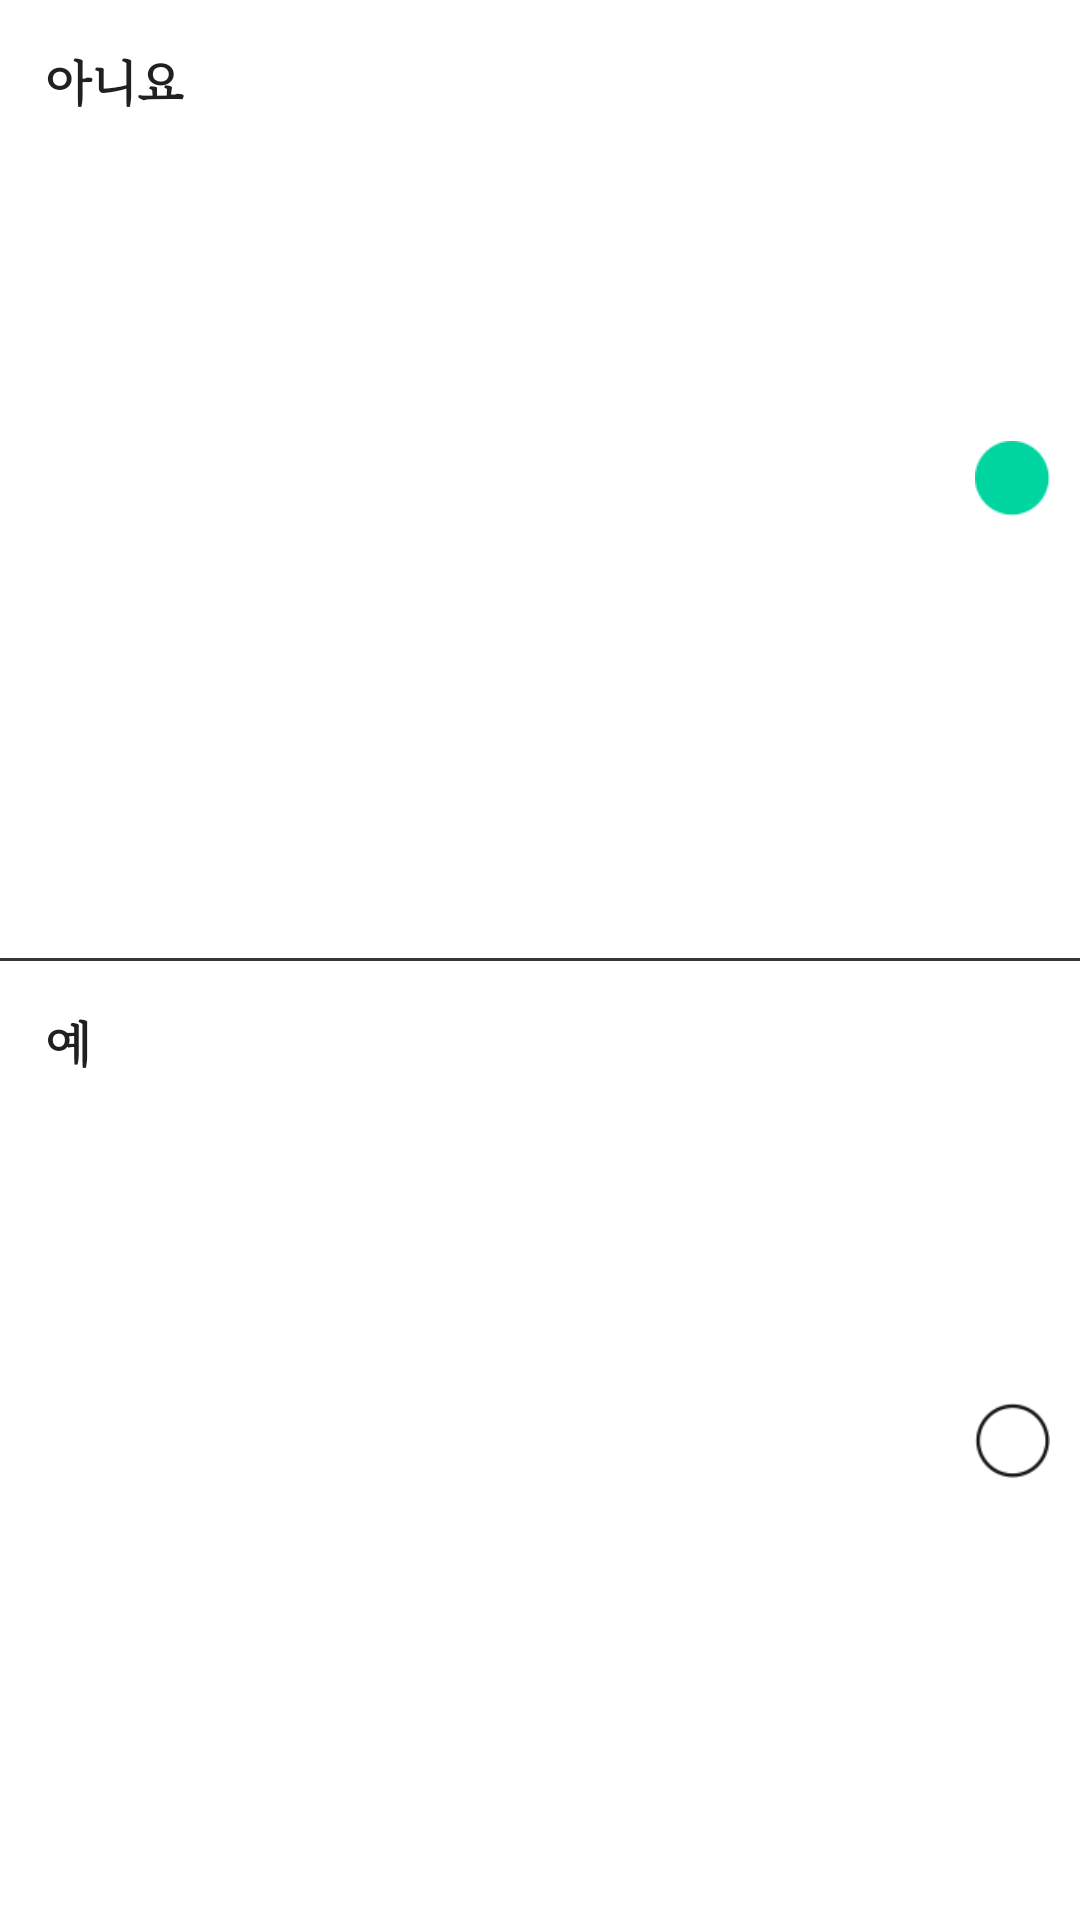

Icons on this 1080w x 1920h Android screen, each with its box as (x1, y1, x2, y2):
select nor: (975, 1403, 1050, 1478)
select pre: (975, 441, 1050, 516)
